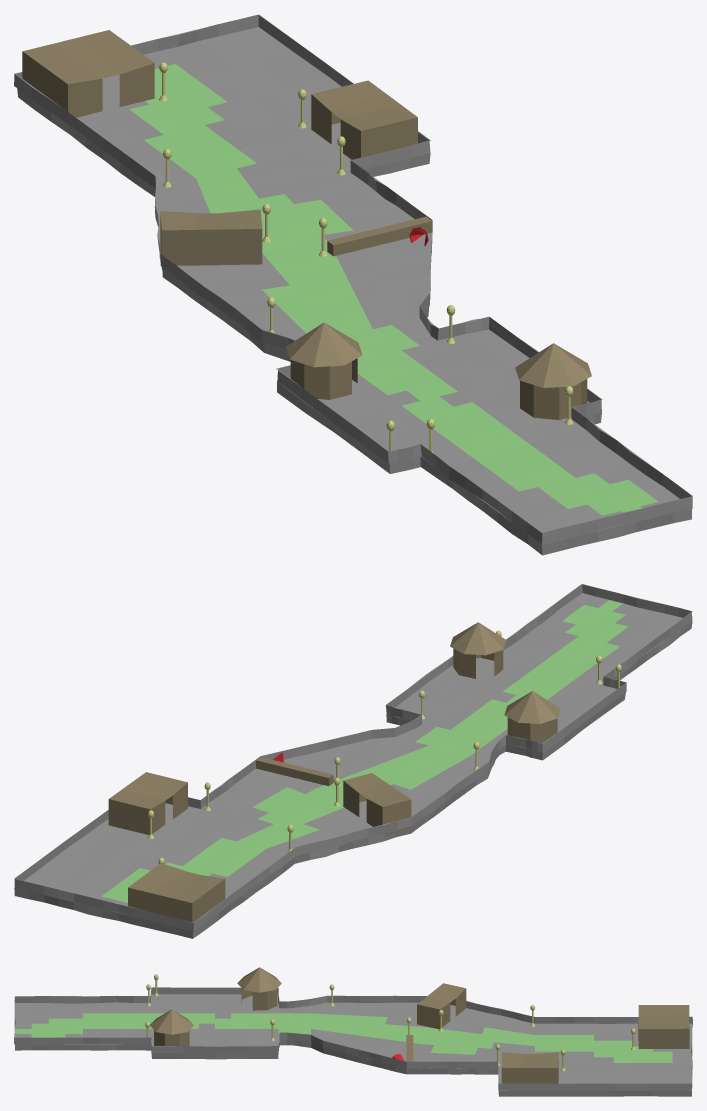
Rendered from AddingTextureWithThisWorld.fbx.
3 views of the same model, one above another, from view 1: azimuth 30°, elevation 25°; view 2: azimuth 150°, elevation 25°; view 3: azimuth 270°, elevation 25° (orthographic). The views are drawn at different scales.
Parts seen in each view (by area): view 1: Cube.001, Cube.007, Cube.006, Cube.005, Cylinder.001, Cylinder.002, Cube.004; view 2: Cube.001, Cube.007, Cube.006, Cube.005, Cylinder.001, Cylinder.002, Cube.004; view 3: Cube.001, Cube.007, Cube.006, Cube.005, Cylinder.001, Cylinder.002.
Part boxes in pixels (<box>): Cube.001: <box>14,14,692,555</box>; Cube.007: <box>22,30,154,117</box>; Cube.006: <box>311,80,417,159</box>; Cube.005: <box>160,209,262,269</box>; Cylinder.001: <box>286,322,362,399</box>; Cylinder.002: <box>515,343,591,419</box>; Cube.004: <box>327,216,432,256</box>; Cube.001: <box>14,584,692,938</box>; Cube.007: <box>128,863,225,922</box>; Cube.006: <box>108,772,187,834</box>; Cube.005: <box>343,773,411,835</box>; Cylinder.001: <box>504,691,560,742</box>; Cylinder.002: <box>450,622,506,678</box>; Cube.004: <box>256,757,333,786</box>; Cube.001: <box>14,987,692,1096</box>; Cube.007: <box>638,1005,689,1048</box>; Cube.006: <box>501,1052,558,1083</box>; Cube.005: <box>417,983,466,1029</box>; Cylinder.001: <box>237,967,281,1010</box>; Cylinder.002: <box>149,1009,193,1046</box>.
Size of the model in its own units: 6500 by 1314 by 19155.
